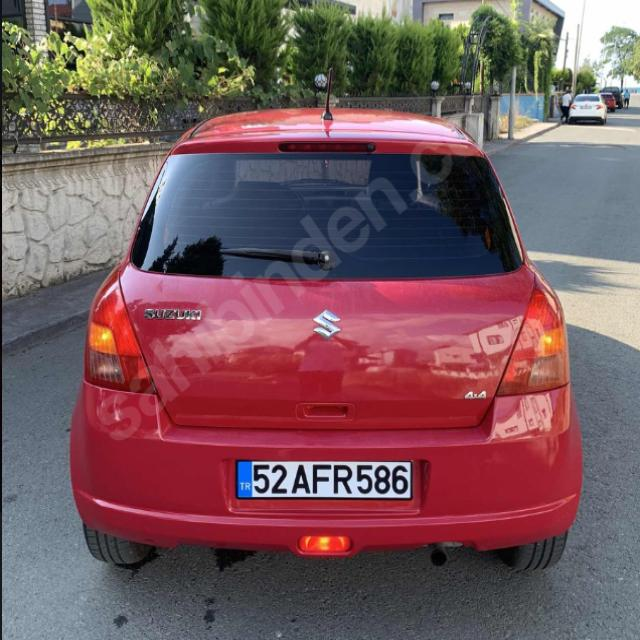suzuki: (311, 308, 344, 342)
